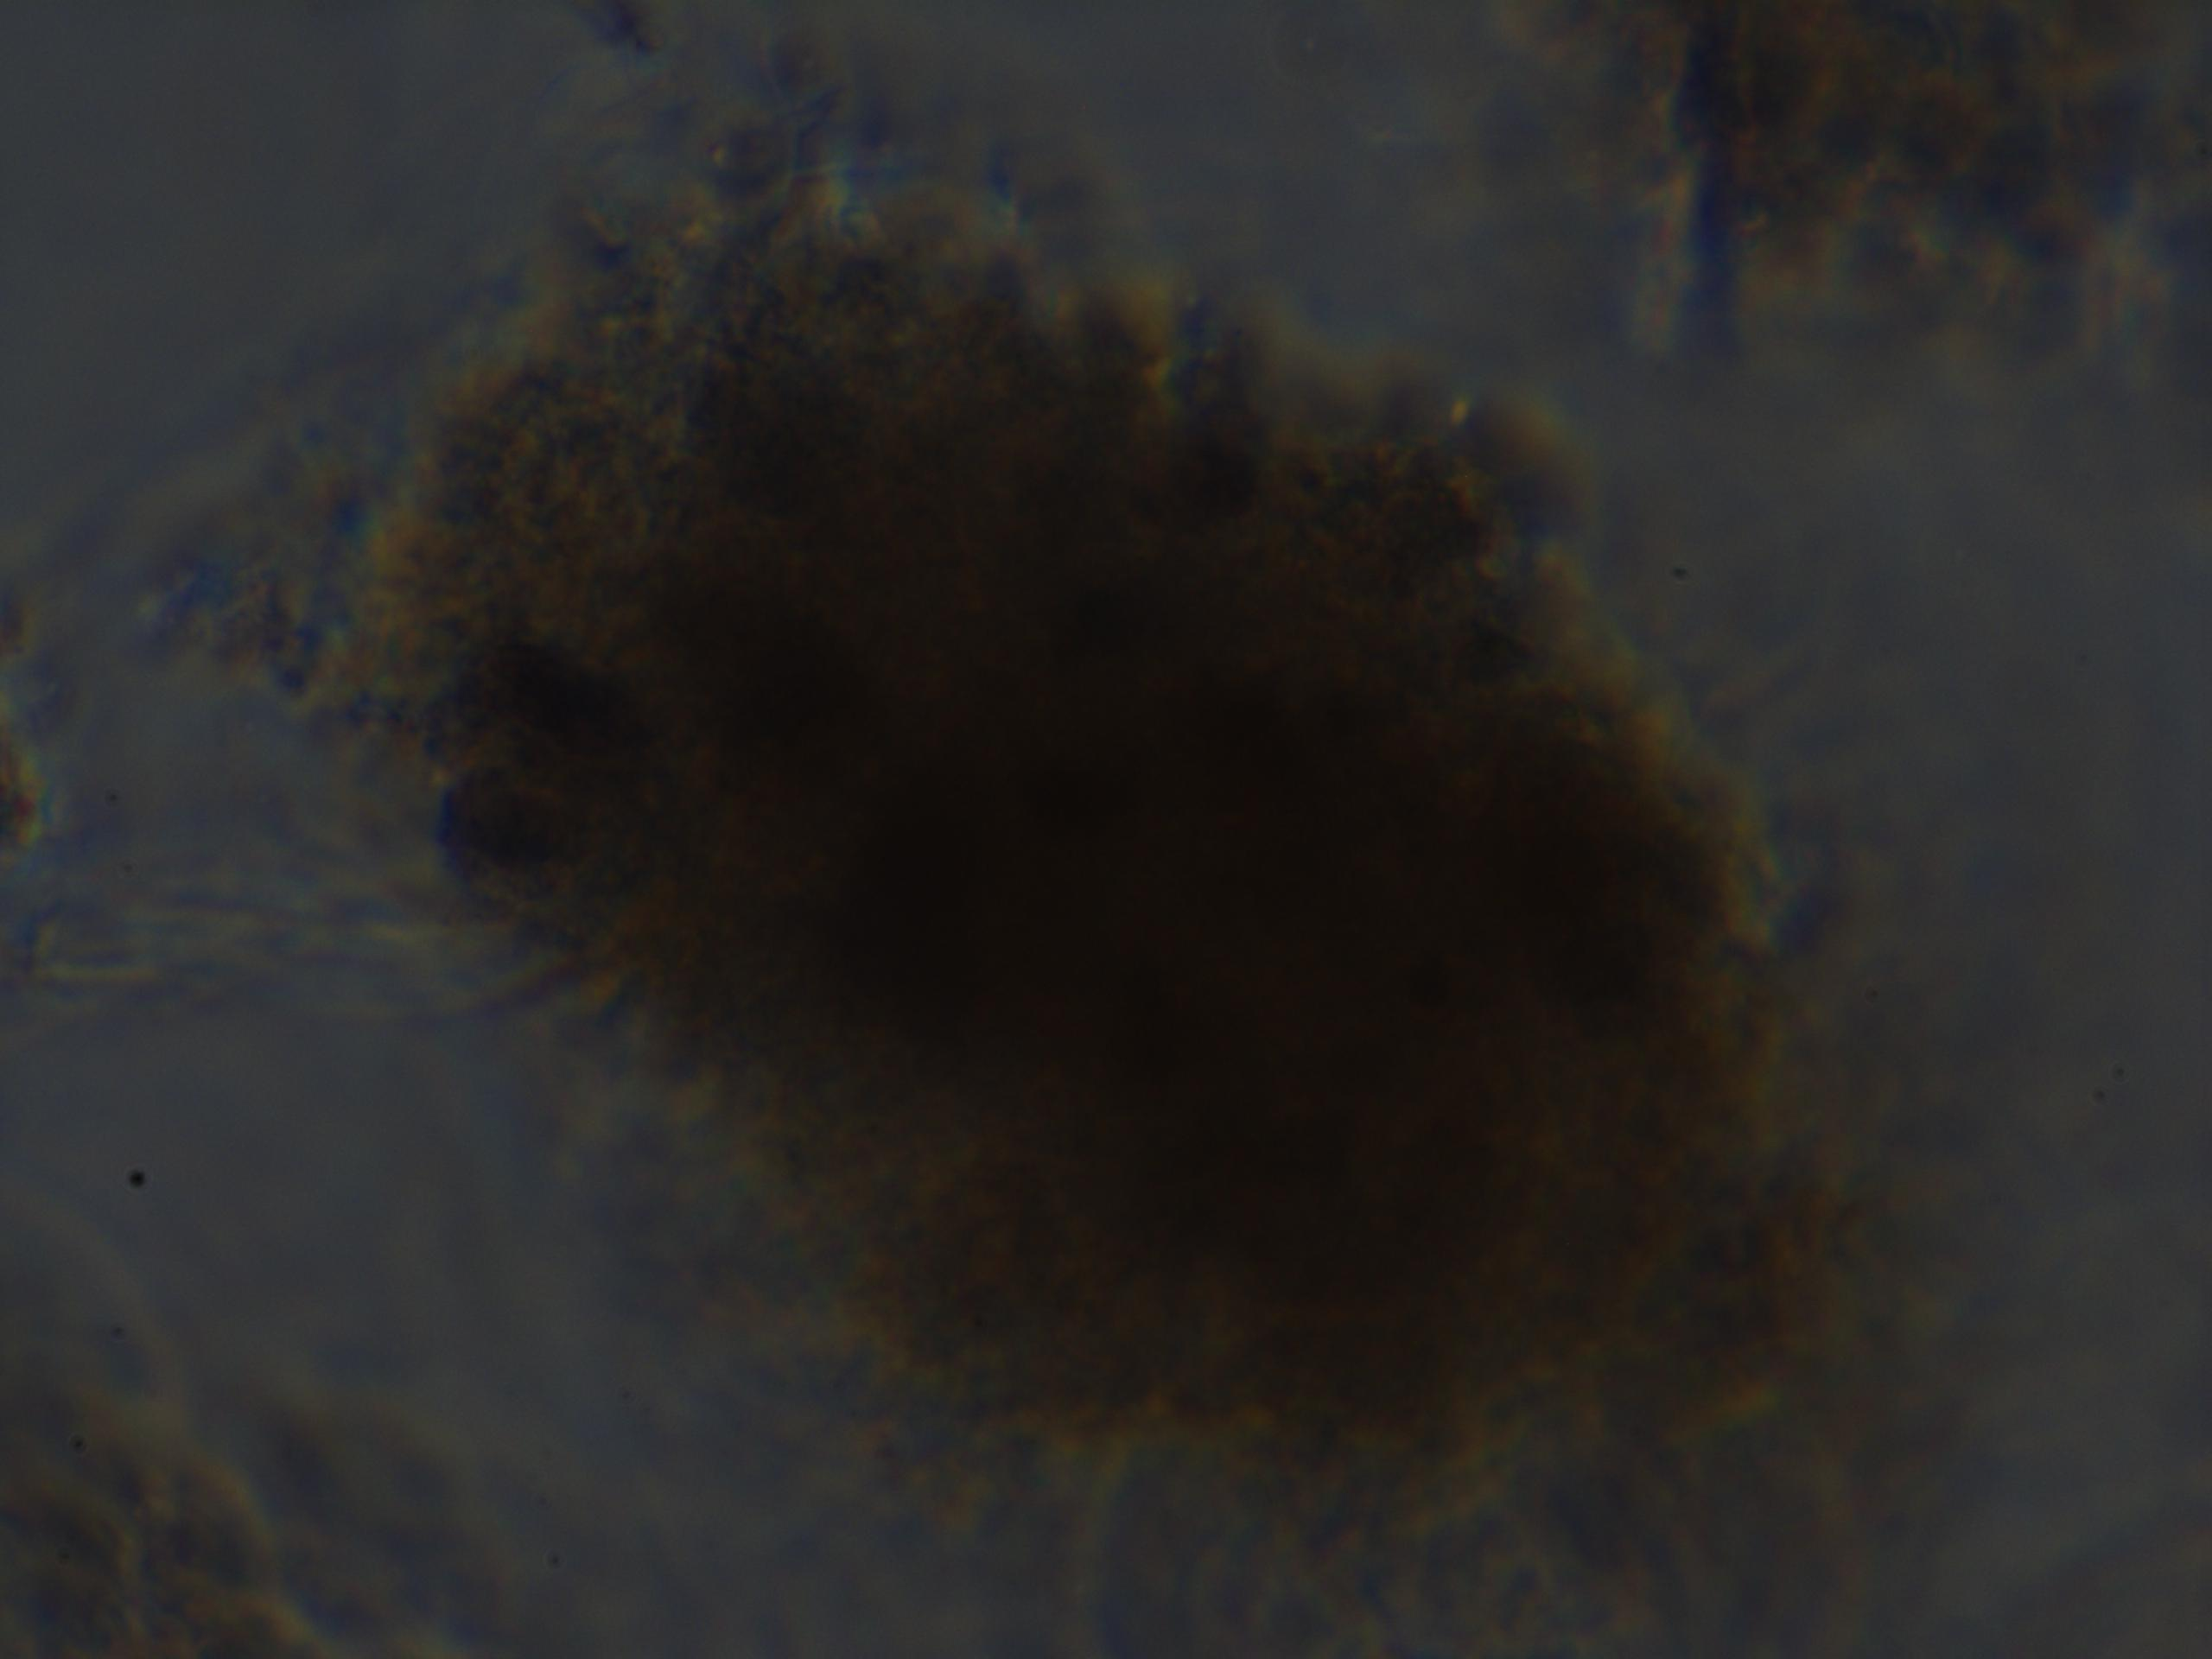spherical_floc: (348, 166, 1904, 1480)
